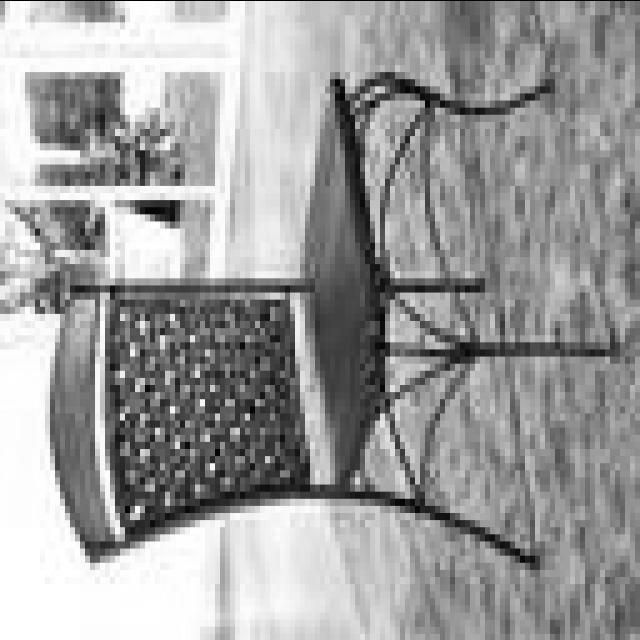chair: (47, 66, 619, 572)
